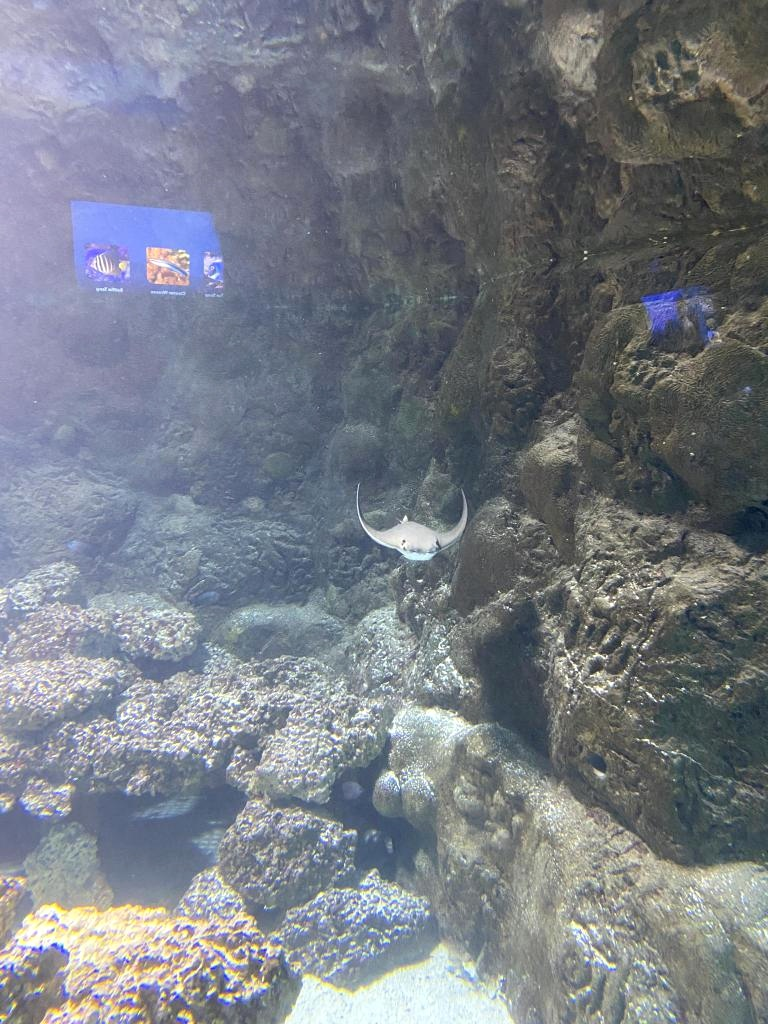stingray: (353, 484, 469, 560)
